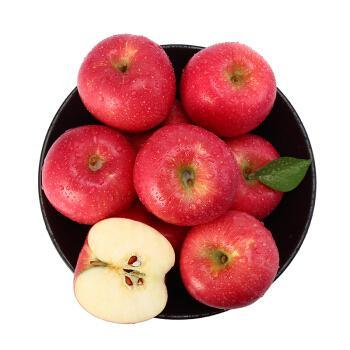apple: (130, 128, 249, 230), (76, 33, 175, 135), (178, 212, 278, 309), (179, 41, 277, 137), (41, 125, 136, 224), (220, 135, 286, 220)
